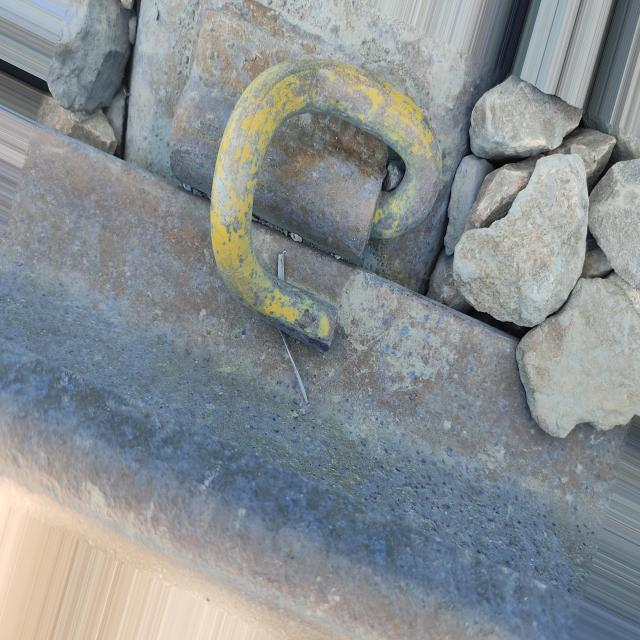Good Fasteners: (169, 2, 444, 349)
